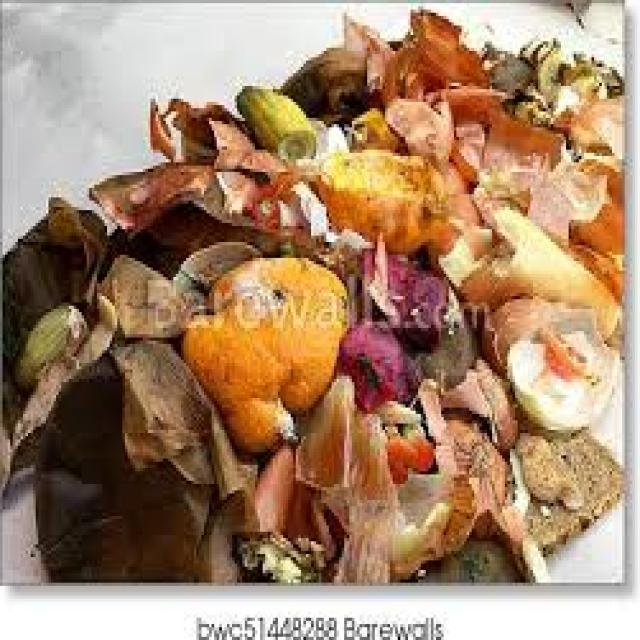biodegradable: (36, 335, 258, 580), (0, 191, 112, 494), (178, 255, 347, 443), (110, 334, 255, 513), (288, 369, 400, 583), (87, 159, 319, 258), (342, 245, 479, 392), (482, 188, 617, 337), (485, 38, 638, 137), (505, 424, 622, 548), (416, 373, 502, 538), (502, 315, 617, 427), (380, 462, 495, 573), (316, 147, 446, 245), (245, 436, 339, 564), (431, 76, 558, 169), (479, 293, 617, 372), (472, 436, 543, 583), (89, 248, 194, 347), (398, 3, 497, 96), (337, 315, 418, 417), (278, 38, 377, 108), (413, 516, 523, 576), (232, 83, 314, 159), (143, 96, 240, 159), (10, 299, 82, 382), (441, 210, 505, 303), (566, 153, 620, 258), (370, 395, 433, 484), (515, 427, 581, 510), (224, 526, 329, 577), (339, 3, 395, 96), (176, 236, 257, 299), (383, 93, 457, 160), (474, 134, 546, 197), (270, 181, 342, 242), (564, 89, 620, 153), (536, 322, 594, 382), (569, 239, 622, 299), (553, 48, 620, 92), (551, 58, 602, 109), (446, 109, 482, 179), (344, 99, 398, 143), (311, 111, 344, 153), (385, 38, 403, 61)
